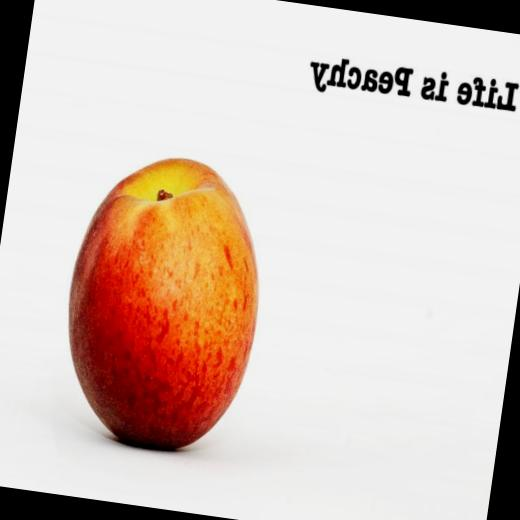Apple: (53, 136, 278, 468)
